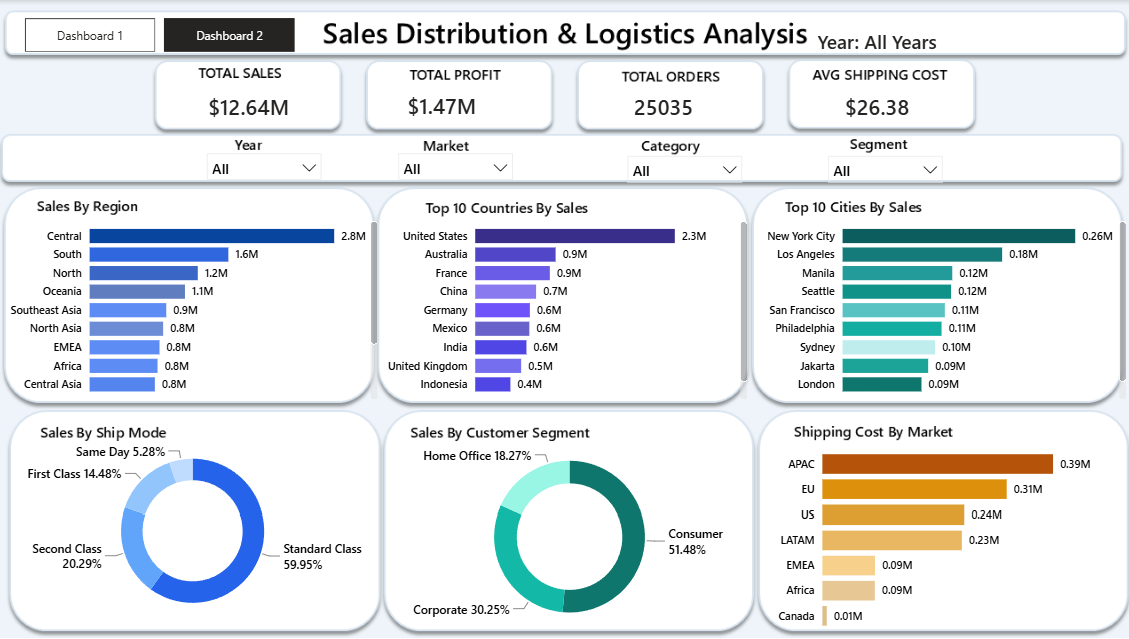

Layout of this report page (visuals, bound fields, positions):
{"tool":"powerbi","page":{"name":"Dashboard 2","canvas":[1280,720],"ordinal":1},"visuals":[{"type":"cardVisual","fields":{"Data":["superstore_changing.Total sales"]},"box":[211.3,77.8,187.8,82.2],"z":0},{"type":"cardVisual","fields":{"Data":["superstore_changing.Total profit"]},"box":[435.8,86.6,168.8,63.1],"z":1000},{"type":"cardVisual","fields":{"Data":["superstore_changing.Total orders"]},"box":[691.2,82.2,158.5,74.8],"z":2000},{"type":"cardVisual","fields":{"Data":["superstore_changing.AVG_shipping_cost"]},"box":[928.9,76.3,152.6,86.6],"z":3000},{"type":"slicer","fields":{"Values":["superstore_changing.Year"]},"box":[228.9,162.9,149,45],"z":4000},{"type":"slicer","fields":{"Values":["superstore_changing.Market"]},"box":[444.6,162.9,149,45],"z":5000},{"type":"slicer","fields":{"Values":["superstore_changing.Category"]},"box":[928.9,165.8,149,45],"z":6000},{"type":"slicer","fields":{"Values":["superstore_changing.Segment"]},"box":[702.9,165.8,149,45],"z":7000},{"type":"clusteredBarChart","fields":{"Category":["superstore_changing.Region"],"Y":["superstore_changing.Total sales"]},"box":[10.3,236.3,425.6,218.6],"z":8000},{"type":"clusteredBarChart","fields":{"Category":["superstore_changing.Country"],"Y":["Sum(superstore_changing.Sales)"]},"box":[435.8,236.3,416.8,218.6],"z":9000},{"type":"clusteredBarChart","fields":{"Category":["superstore_changing.City"],"Y":["superstore_changing.Total sales"]},"box":[862.9,236.3,416.8,218.6],"z":10000},{"type":"donutChart","fields":{"Category":["superstore_changing.Ship_Mode"],"Y":["superstore_changing.Total sales"]},"box":[16.1,487.2,412.4,220.1],"z":11000},{"type":"donutChart","fields":{"Category":["superstore_changing.Segment"],"Y":["superstore_changing.Total sales"]},"box":[444.6,487.2,405,233.3],"z":12000},{"type":"clusteredBarChart","fields":{"Category":["superstore_changing.Market"],"Y":["Sum(superstore_changing.Shipping_Cost)"]},"box":[876.1,487.2,363.9,233.3],"z":13000},{"type":"cardVisual","fields":{"Data":["superstore_changing.Selected Year"]},"box":[898.1,8.8,214.2,73.4],"z":14000},{"type":"pageNavigator","box":[33.8,20.5,305.2,38.2],"z":15000}]}

Visuals, with their boxes in screenshot pixels (x1, y1, x2, y2), scaled from the page's 1280x720 canvas onto the 1129x639 screenshot:
cardVisual - superstore_changing.Total sales: [left=186, top=69, right=352, bottom=142]
cardVisual - superstore_changing.Total profit: [left=384, top=77, right=533, bottom=133]
cardVisual - superstore_changing.Total orders: [left=610, top=73, right=749, bottom=139]
cardVisual - superstore_changing.AVG_shipping_cost: [left=819, top=68, right=954, bottom=145]
slicer - superstore_changing.Year: [left=202, top=145, right=333, bottom=185]
slicer - superstore_changing.Market: [left=392, top=145, right=524, bottom=185]
slicer - superstore_changing.Category: [left=819, top=147, right=951, bottom=187]
slicer - superstore_changing.Segment: [left=620, top=147, right=751, bottom=187]
clusteredBarChart - superstore_changing.Region x superstore_changing.Total sales: [left=9, top=210, right=384, bottom=404]
clusteredBarChart - superstore_changing.Country x Sum(superstore_changing.Sales): [left=384, top=210, right=752, bottom=404]
clusteredBarChart - superstore_changing.City x superstore_changing.Total sales: [left=761, top=210, right=1128, bottom=404]
donutChart - superstore_changing.Ship_Mode x superstore_changing.Total sales: [left=14, top=432, right=378, bottom=628]
donutChart - superstore_changing.Segment x superstore_changing.Total sales: [left=392, top=432, right=749, bottom=638]
clusteredBarChart - superstore_changing.Market x Sum(superstore_changing.Shipping_Cost): [left=773, top=432, right=1094, bottom=638]
cardVisual - superstore_changing.Selected Year: [left=792, top=8, right=981, bottom=73]
pageNavigator: [left=30, top=18, right=299, bottom=52]
